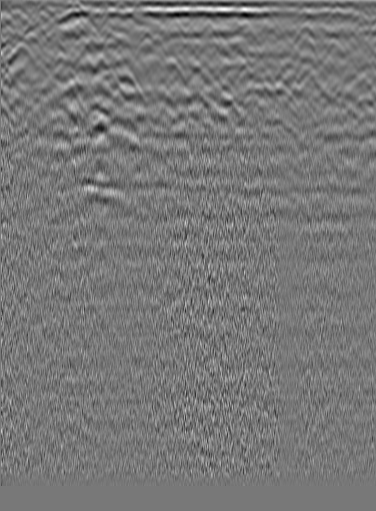가스: (67, 173, 374, 197)
